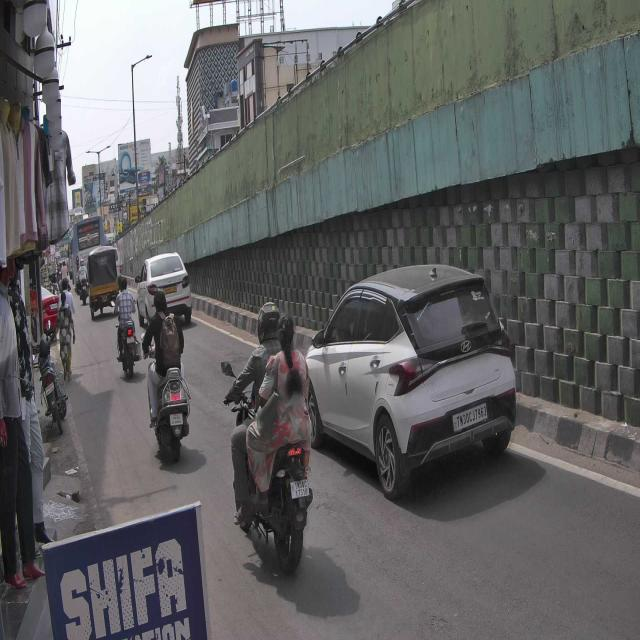double_rider: (221, 298, 314, 573)
single_rider: (141, 285, 191, 461)
